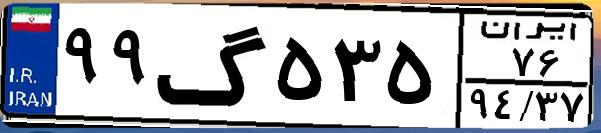3: (330, 28, 385, 110), (535, 70, 560, 125)
4: (495, 70, 520, 125)
5: (270, 28, 330, 110), (385, 28, 445, 110)
6: (537, 27, 568, 80)
7: (560, 70, 590, 125), (508, 27, 537, 80)
9: (57, 26, 110, 100), (110, 28, 156, 98), (470, 70, 495, 125)
گ: (156, 12, 270, 120)
